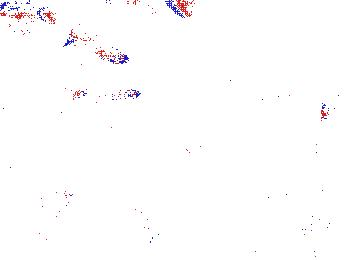X-ray fish: (129, 200, 156, 246)
glassfish: (178, 136, 256, 187)
red belly glassfish: (321, 105, 332, 121)
redtail glassfish: (63, 30, 132, 68), (101, 1, 192, 22), (71, 82, 146, 107), (1, 1, 53, 31)
